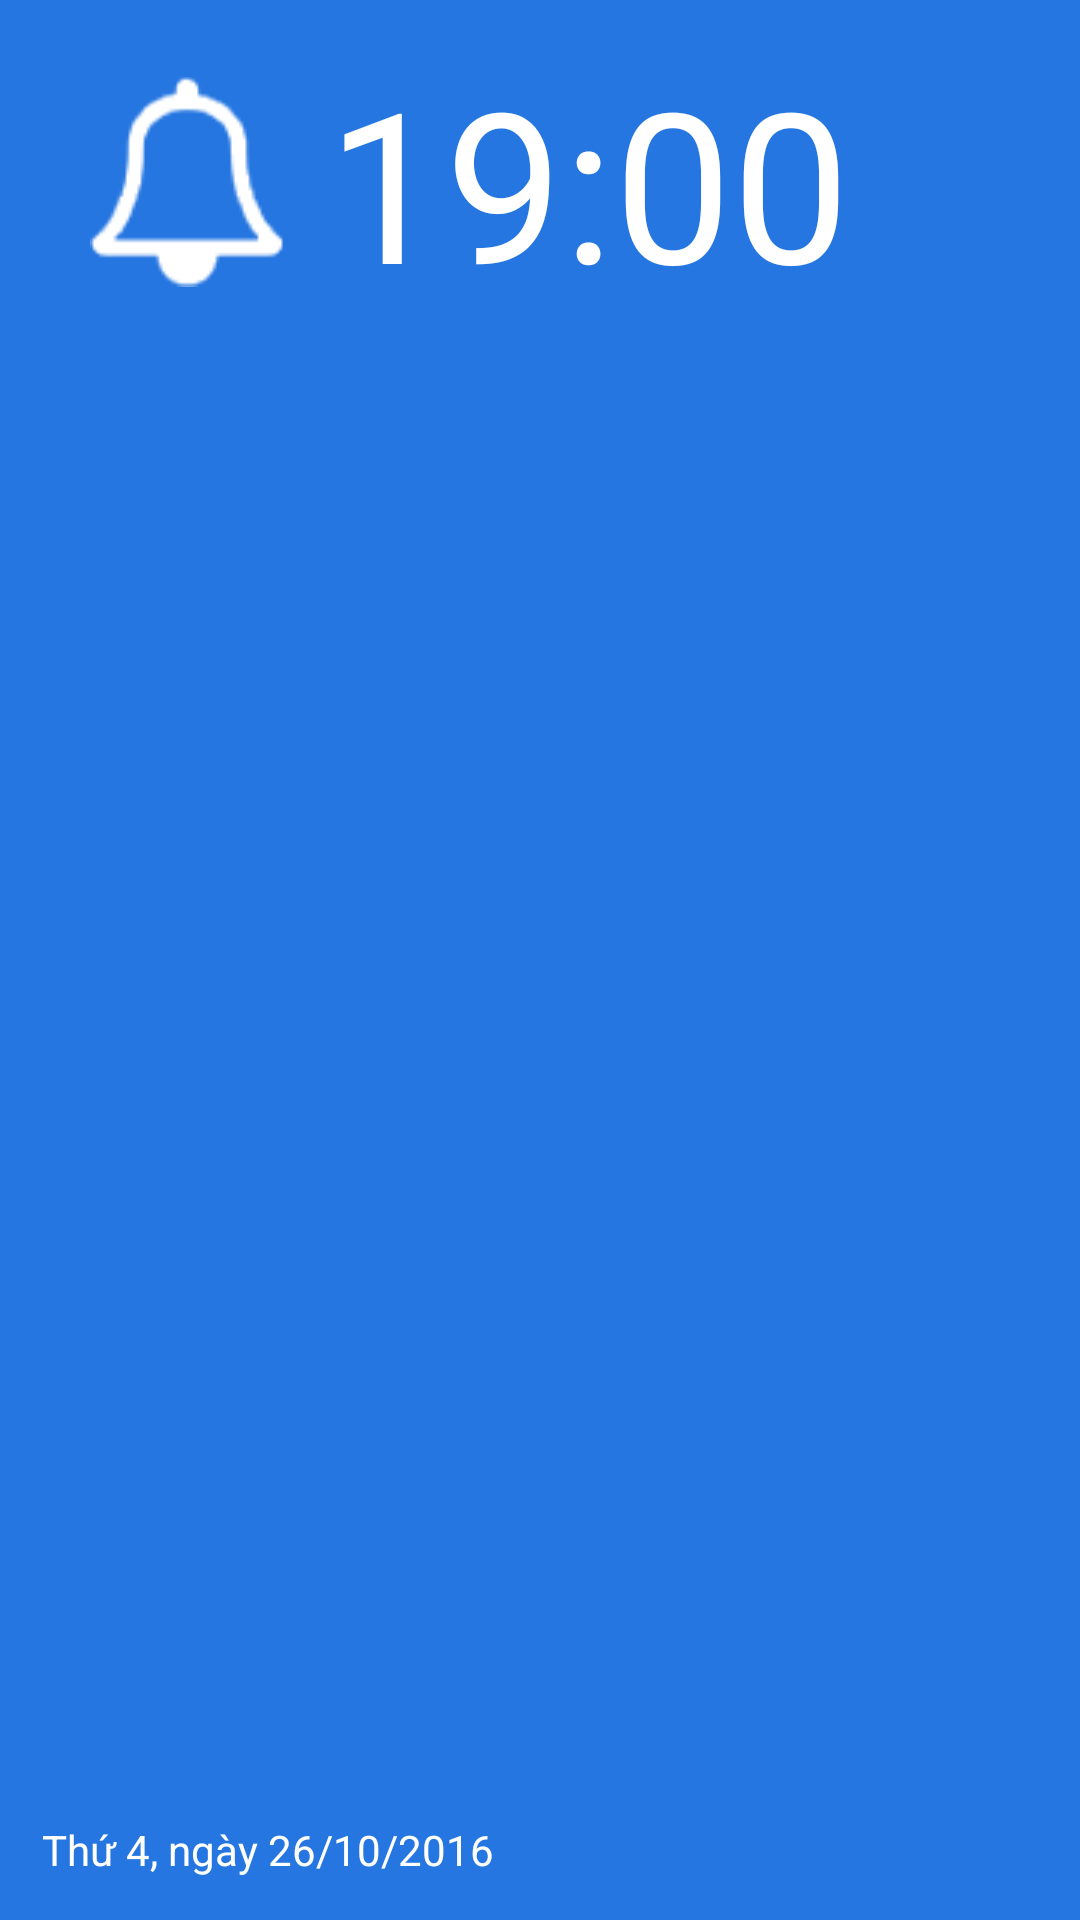

Icon click points for this 1080px x 1920px phone screenshot, format [x,y]:
bell: [186,182]
